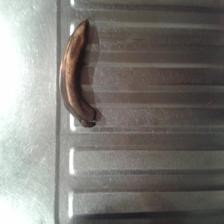Banana Rotten: (49, 12, 104, 133)
